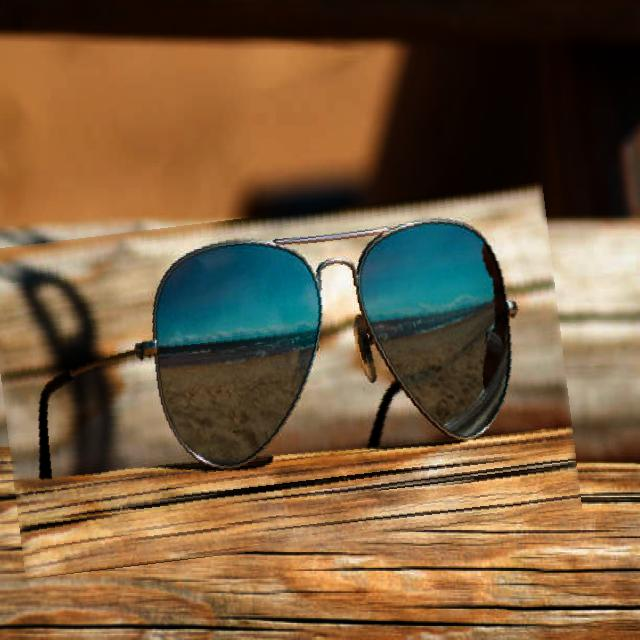glasses: (0, 198, 572, 563)
